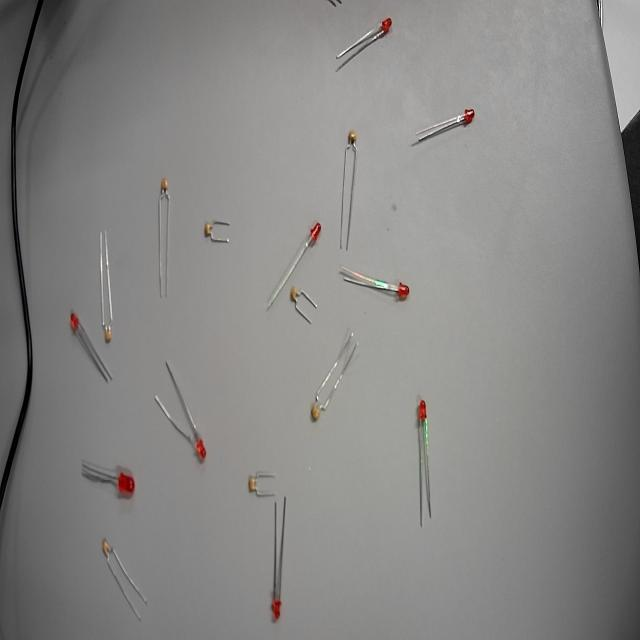LED_red: (115, 458, 138, 502), (458, 95, 480, 134), (267, 588, 288, 624), (190, 432, 210, 466), (66, 302, 84, 338), (412, 391, 430, 424), (394, 274, 412, 306), (306, 216, 323, 245), (378, 13, 396, 40), (287, 282, 304, 308)
capacitor: (301, 397, 326, 425), (342, 125, 363, 154), (100, 315, 116, 346), (97, 531, 113, 561), (243, 470, 259, 500), (155, 175, 175, 198), (200, 212, 214, 244)
